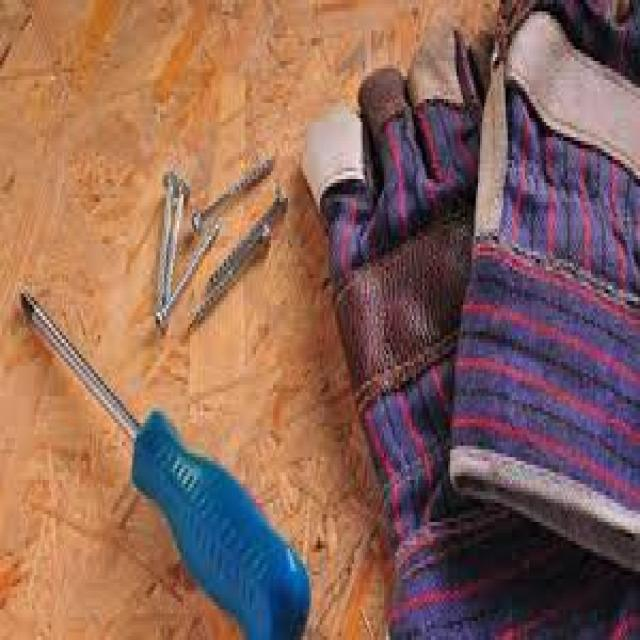screw driver: (0, 232, 367, 640)
